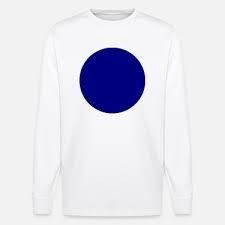blue_circle: (75, 43, 152, 117)
